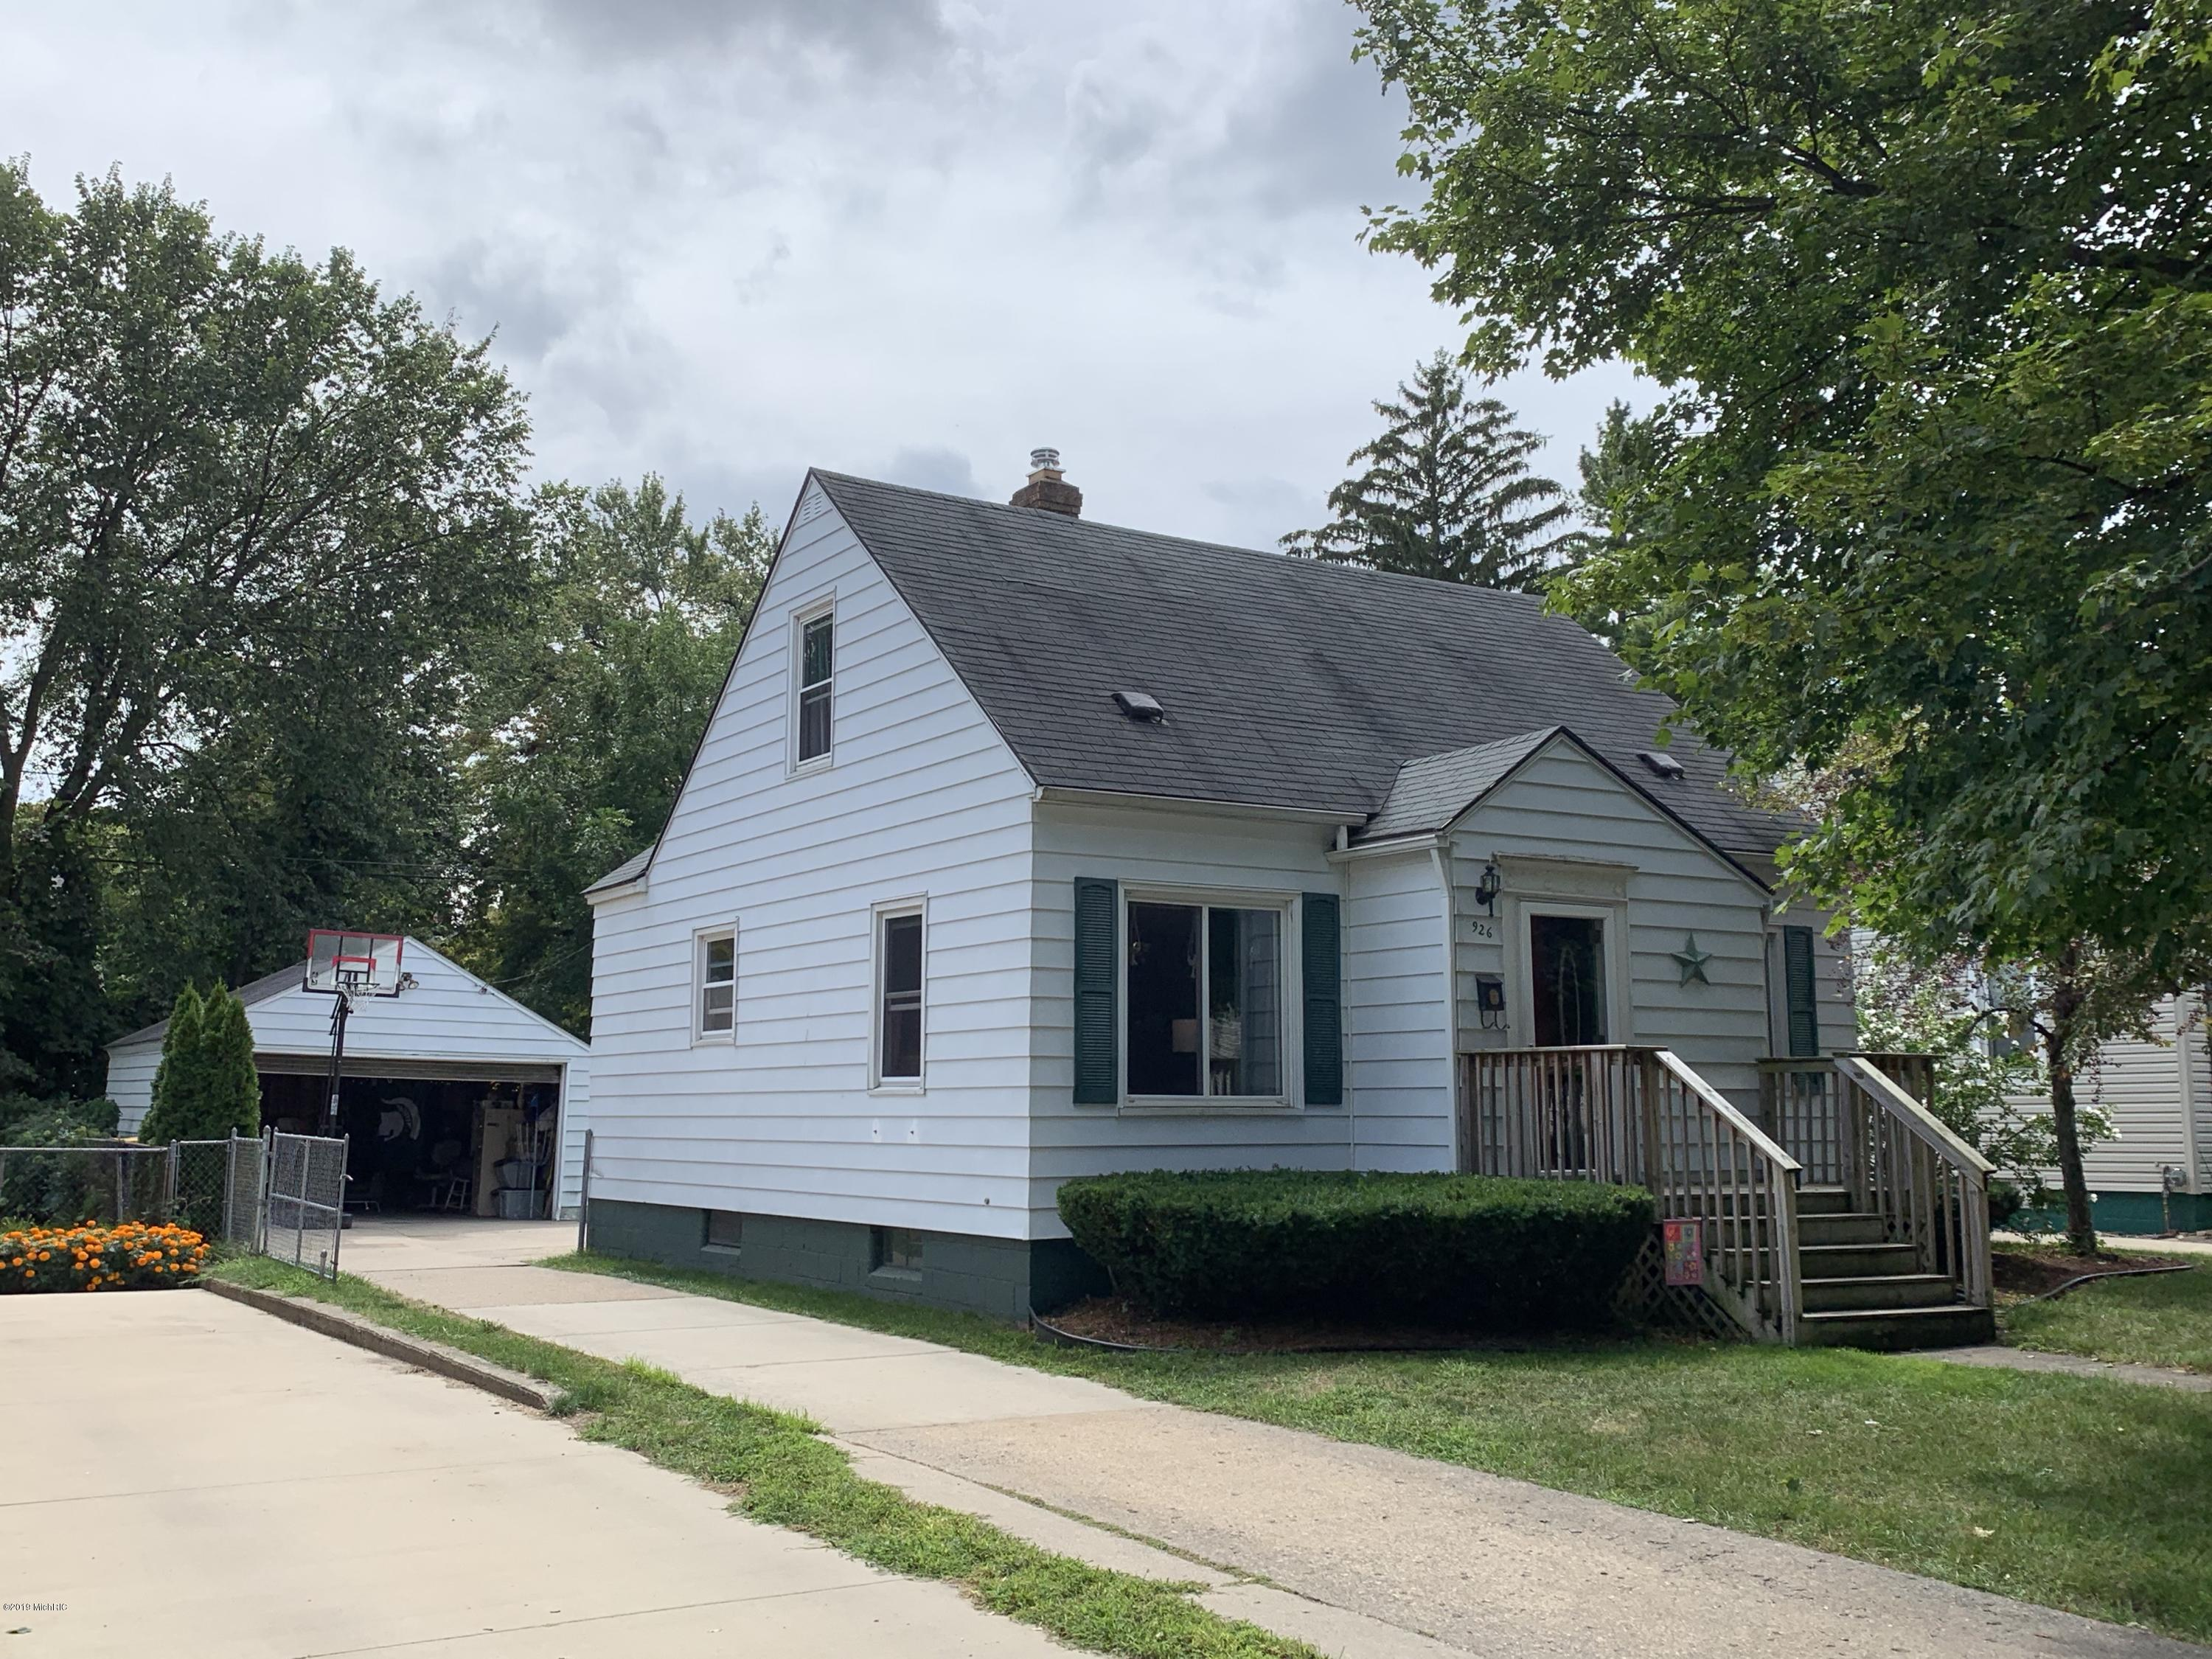tree: (1334, 0, 2212, 1260), (0, 155, 533, 920)
